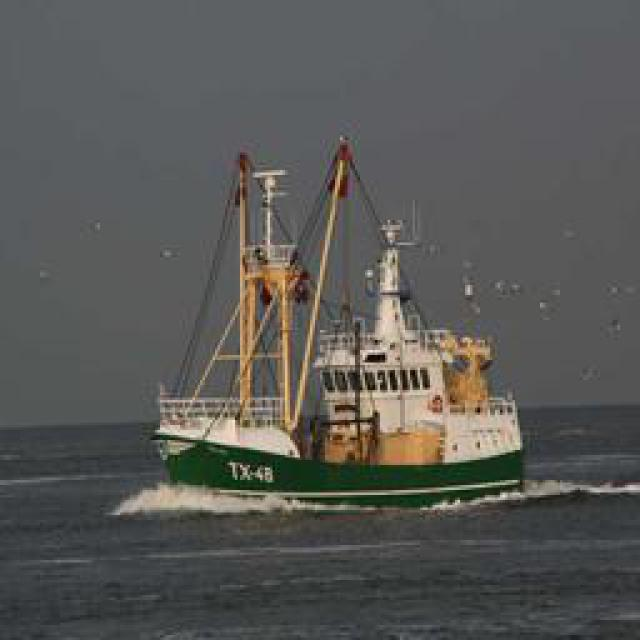Ship: (159, 133, 532, 511)
